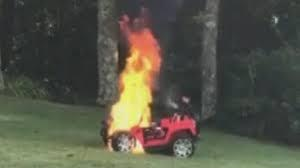fire: (106, 19, 163, 137)
